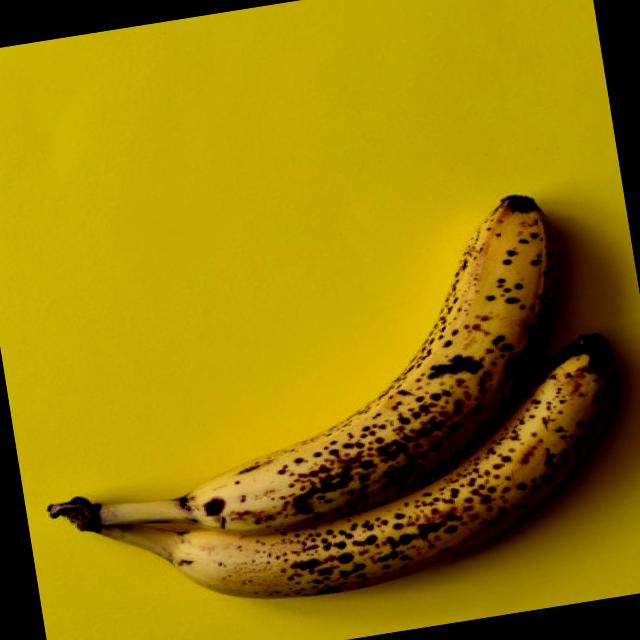Platano: (5, 178, 640, 638)
